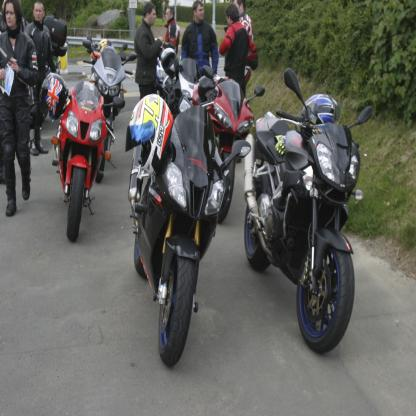Helmet: (127, 101, 181, 183), (300, 92, 346, 143), (37, 72, 68, 122), (193, 76, 225, 112), (158, 44, 185, 84), (95, 37, 113, 60)
